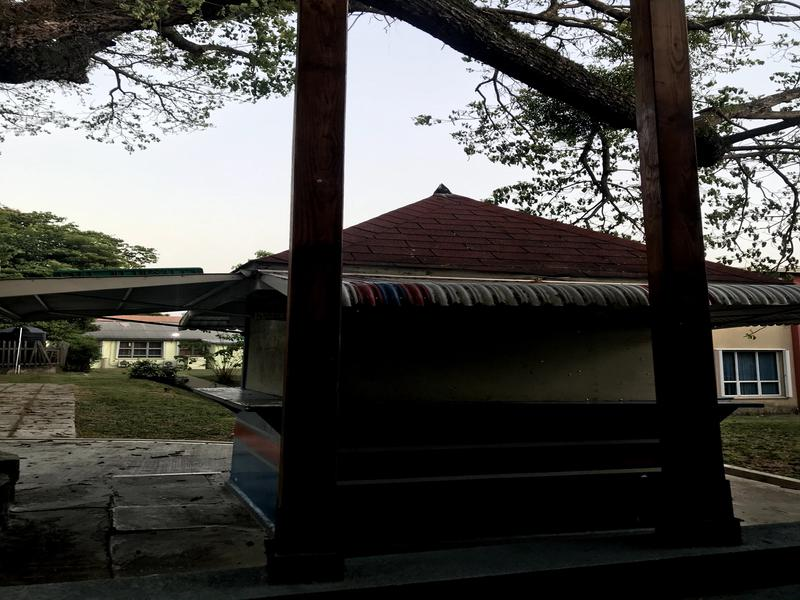18.0051667_-76.74944412_librarystall: (188, 174, 791, 536)
